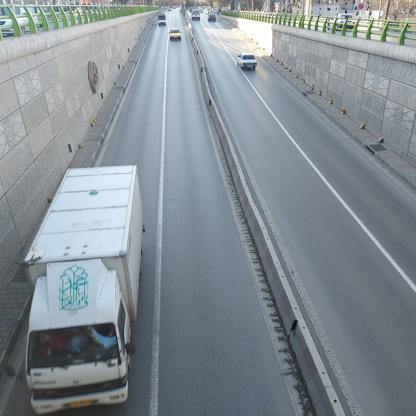Car: (235, 55, 262, 73), (326, 14, 353, 29), (170, 32, 183, 42), (158, 14, 167, 25), (191, 11, 200, 21), (207, 13, 217, 22)
Truck: (17, 163, 150, 416)
